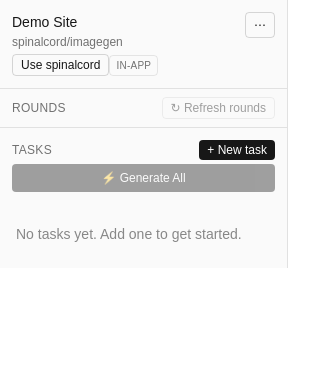
Test: Sidebar project draft input (BI-067.2) › hides the Use {repo} offer while a draft is open and restores it after
The image size is (320, 369).
Expected: the button "Use spinalcord" is shown, top-left (12, 54), bottom-right (109, 76)
Click the button with aria-label "Rename Demo Site" at (45, 22), box top-left (12, 12), bottom-right (77, 32)
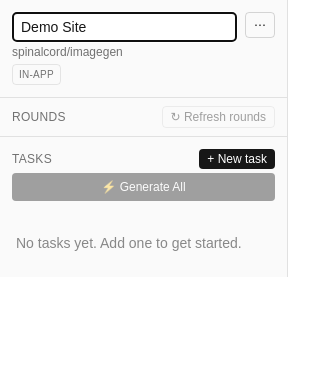
Expected: the button "Use spinalcord" is gone
Press Escape in the field named "Project name", box top-left (12, 12), bottom-right (237, 42)
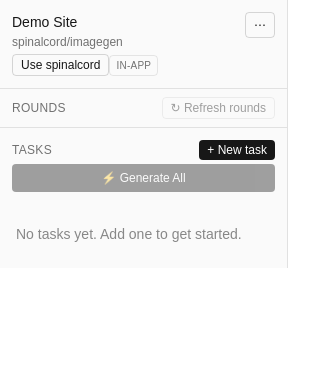
Expected: the button "Use spinalcord" is shown, top-left (12, 54), bottom-right (109, 76)
Click the button named "Project menu" at (260, 25), box top-left (245, 12), bottom-right (275, 38)
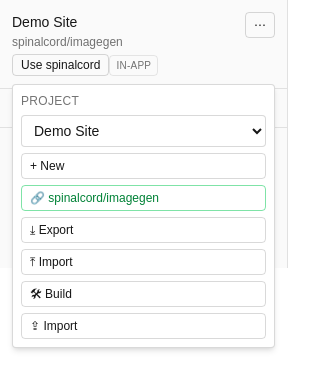
Click the button with aria-label "New project" at (144, 166), box top-left (21, 153), bottom-right (266, 179)
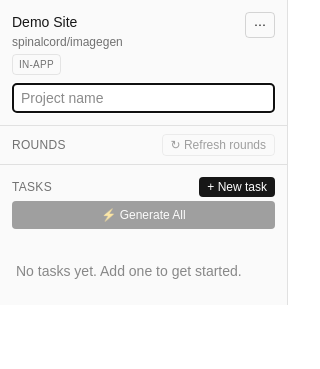
Expected: the button "Use spinalcord" is gone
Press Escape in the field named "New project name", box top-left (12, 83), bottom-right (275, 113)
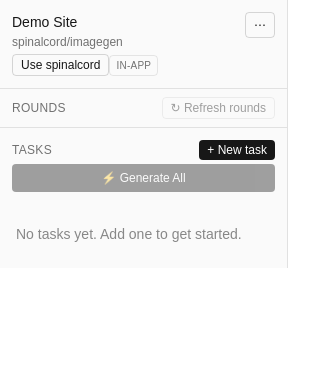
Expected: the button "Use spinalcord" is shown, top-left (12, 54), bottom-right (109, 76)
